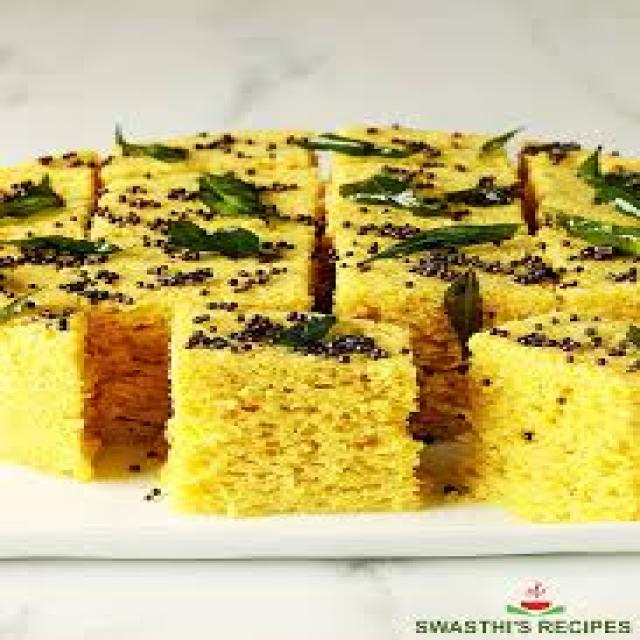DHOKLA: (329, 123, 534, 440), (181, 315, 417, 512), (468, 300, 636, 526), (6, 240, 167, 469), (92, 141, 306, 245), (529, 139, 637, 238), (477, 229, 637, 292), (146, 235, 312, 295), (3, 157, 98, 252)
